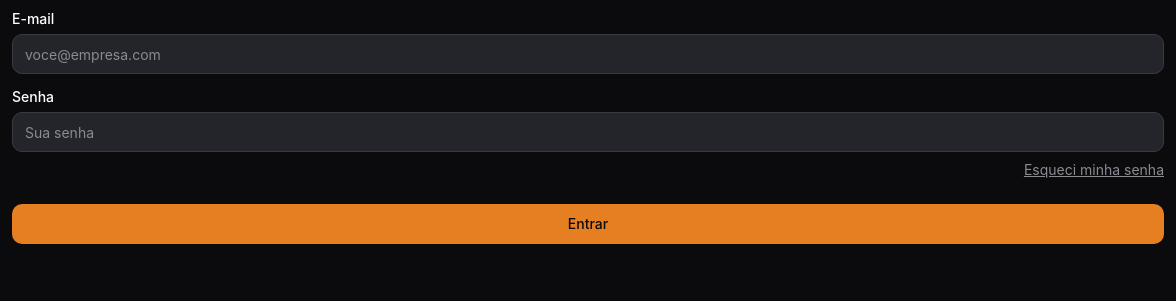
Test case: LoginForm › mostra mensagem de credenciais inválidas quando o backend rejeita
The image size is (1176, 301).
Type "ana@claudequest.dev" into the field labelled "E-mail" at (588, 54), box [12,34,1164,74]
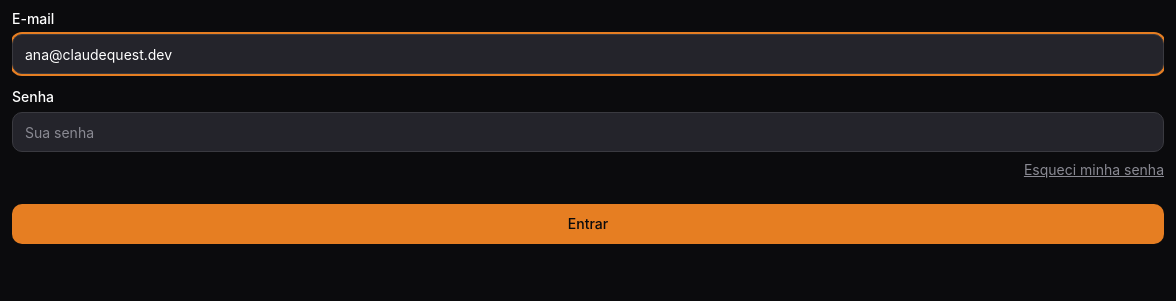
Type "senha-errada" into the password field labelled "Senha" at (588, 132), box [12,112,1164,152]
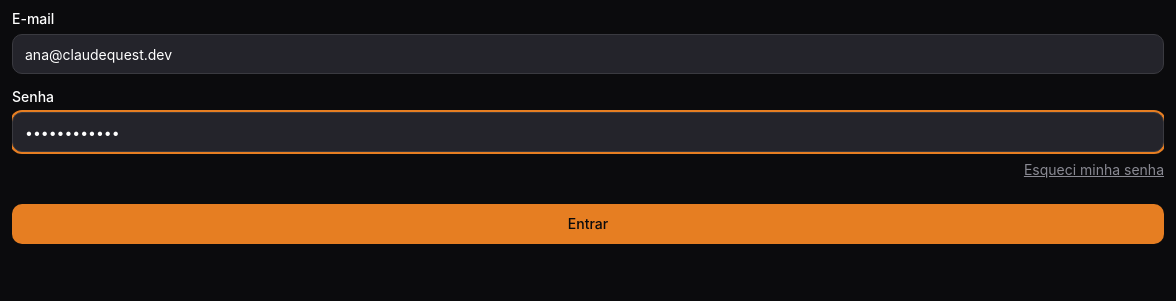
Click the button "Entrar" at (588, 224), box [12,204,1164,244]
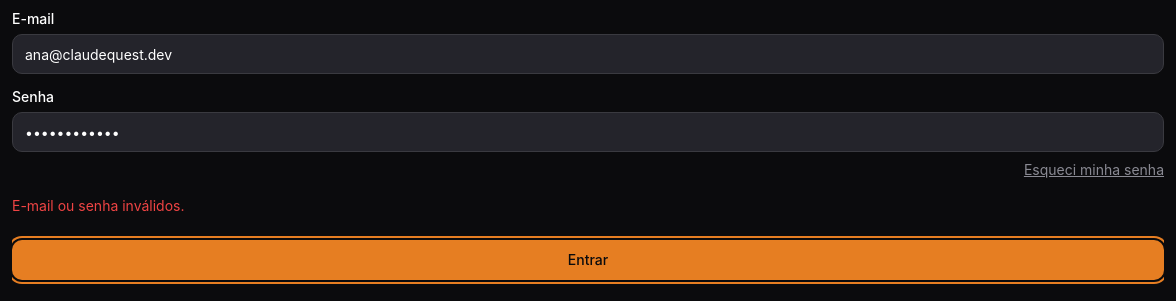
Now the text "E-mail ou senha inválidos." is shown, box [12,197,184,214]
